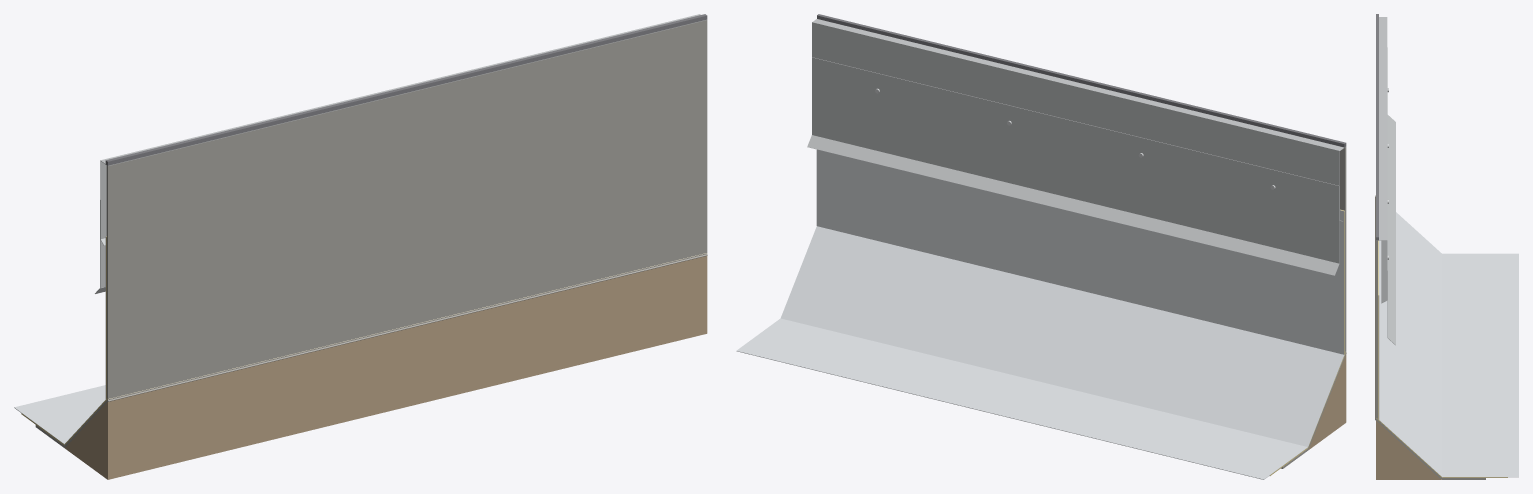
The model's file is wall-counterflashing-fixed-W-13-TYP.glb.
3 views of the same model, side by side, from view 1: azimuth 30°, elevation 25°; view 2: azimuth 150°, elevation 25°; view 3: azimuth 270°, elevation 25° (orthographic). The views are drawn at different scales.
Visible parts, largest first — view 1: existing__flashing_wall, existing__cant, primer__sealant_top, existing__fixed_cf_flange, topcoat__topcoat_foot, existing__flashing_cant, topcoat__topcoat_foot_over; view 2: topcoat__topcoat_cant, existing__skirt_face, topcoat__topcoat_flashing, existing__fixed_cf_face, topcoat__topcoat_foot_over, topcoat__topcoat_foot, existing__skirt_kick, primer__sealant_top, existing__fixed_cf_flange, existing__cant, existing__flashing_wall; view 3: topcoat__topcoat_cant, topcoat__topcoat_foot_over, topcoat__topcoat_foot, existing__fixed_cf_flange, existing__skirt_kick, existing__cant, primer__sealant_top, existing__flashing_cant, existing__fixed_cf_hem, existing__flashing_wall, topcoat__topcoat_flashing, existing__skirt_face (+3 smaller).
Boxes of the visible parts, x1=… form: existing__flashing_wall: x1=106, y1=20, x2=707, y2=400; existing__cant: x1=65, y1=256, x2=707, y2=479; primer__sealant_top: x1=105, y1=14, x2=707, y2=165; existing__fixed_cf_flange: x1=100, y1=14, x2=706, y2=165; topcoat__topcoat_foot: x1=14, y1=385, x2=105, y2=422; existing__flashing_cant: x1=64, y1=254, x2=707, y2=447; topcoat__topcoat_foot_over: x1=35, y1=407, x2=98, y2=444; topcoat__topcoat_cant: x1=781, y1=226, x2=1345, y2=446; existing__skirt_face: x1=812, y1=57, x2=1339, y2=263; topcoat__topcoat_flashing: x1=816, y1=149, x2=1344, y2=354; existing__fixed_cf_face: x1=812, y1=22, x2=1339, y2=219; topcoat__topcoat_foot_over: x1=755, y1=318, x2=1308, y2=465; topcoat__topcoat_foot: x1=736, y1=337, x2=1282, y2=479; existing__skirt_kick: x1=807, y1=135, x2=1339, y2=275; primer__sealant_top: x1=817, y1=14, x2=1346, y2=147; existing__fixed_cf_flange: x1=812, y1=19, x2=1345, y2=151; existing__cant: x1=1308, y1=354, x2=1346, y2=449; existing__flashing_wall: x1=1340, y1=147, x2=1346, y2=352; topcoat__topcoat_cant: x1=1377, y1=212, x2=1441, y2=476; topcoat__topcoat_foot_over: x1=1442, y1=253, x2=1487, y2=477; topcoat__topcoat_foot: x1=1486, y1=253, x2=1518, y2=477; existing__fixed_cf_flange: x1=1376, y1=17, x2=1387, y2=240; existing__skirt_kick: x1=1387, y1=115, x2=1395, y2=345; existing__cant: x1=1376, y1=420, x2=1441, y2=479; primer__sealant_top: x1=1376, y1=14, x2=1378, y2=240; existing__flashing_cant: x1=1375, y1=196, x2=1441, y2=479; existing__fixed_cf_hem: x1=1381, y1=240, x2=1386, y2=303; existing__flashing_wall: x1=1376, y1=240, x2=1377, y2=418; topcoat__topcoat_flashing: x1=1378, y1=241, x2=1379, y2=419; existing__skirt_face: x1=1387, y1=47, x2=1387, y2=337.
Size of the model in its own units: 1.22 by 0.6182 by 0.3319.
